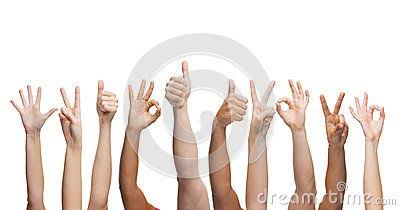peace_sign: (313, 88, 355, 146), (243, 75, 281, 131), (59, 82, 88, 145)
